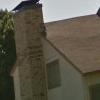Chimney: (8, 5, 58, 91)
